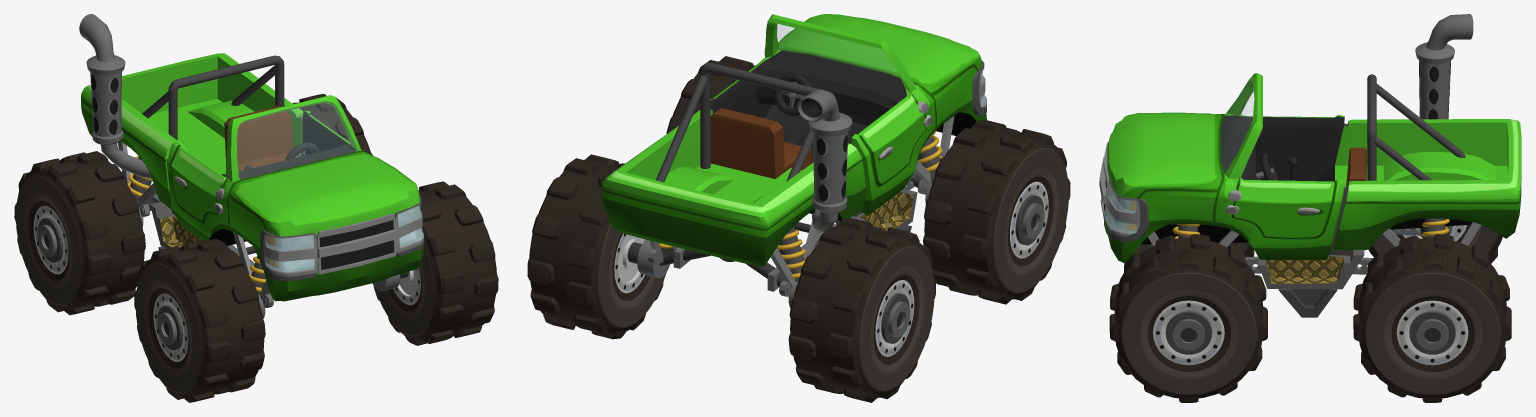
Rendered from hcr2_monster_truck-v1.glb.
3 renders of one model, left to right at view 1: azimuth 30°, elevation 25°; view 2: azimuth 150°, elevation 25°; view 3: azimuth 270°, elevation 25°, orthographic. The views are drawn at different scales.
Visible parts, largest first — view 1: Object_6, Object_36, Object_4, Object_20; view 2: Object_6, Object_36, Object_4; view 3: Object_6, Object_36, Object_4, Object_20.
Part boxes in pixels (x1,y1,x2,y2): Object_6: [79, 14, 424, 318]; Object_36: [14, 94, 498, 402]; Object_4: [237, 101, 356, 178]; Object_20: [265, 205, 422, 272]; Object_6: [602, 14, 986, 308]; Object_36: [527, 56, 1070, 402]; Object_4: [777, 24, 899, 77]; Object_6: [1099, 14, 1521, 317]; Object_36: [1109, 225, 1511, 402]; Object_4: [1221, 79, 1253, 172]; Object_20: [1106, 186, 1136, 233].
Size of the model in its own units: 3.58 by 3.04 by 4.26.
4 materials, 2 textured.
